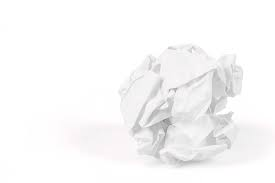crumpled paper: (115, 38, 253, 171)
